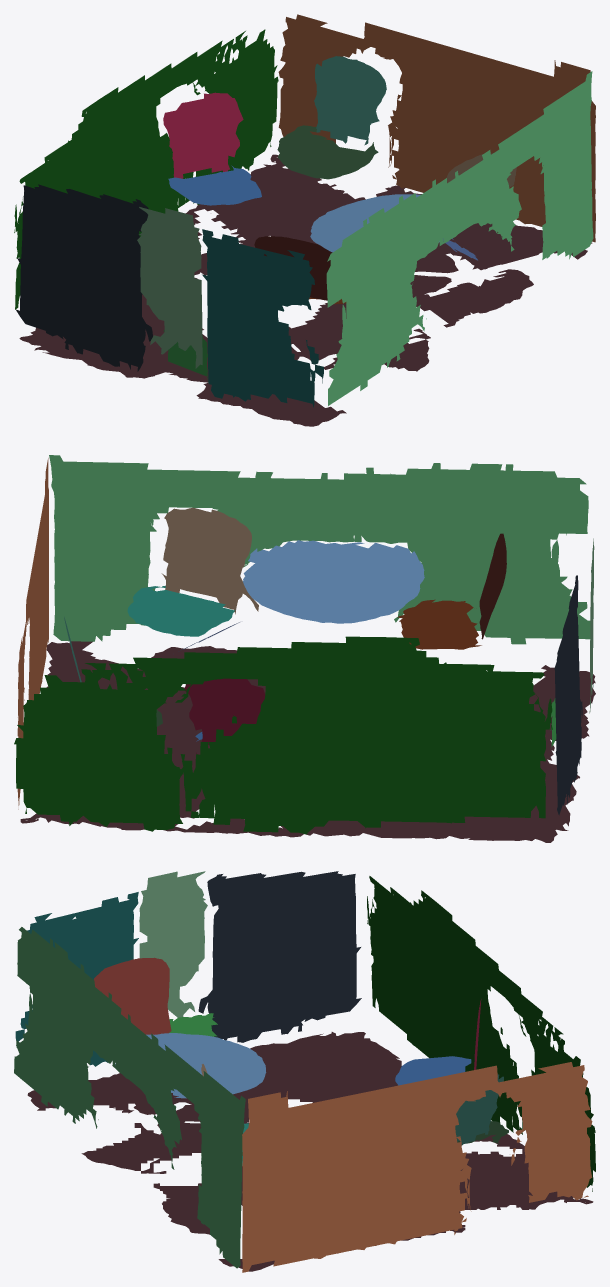
Rendered from AirPlanes-scene0427_00.glb.
3 renders of one model, top to bottom at view 1: azimuth 30°, elevation 25°; view 2: azimuth 150°, elevation 25°; view 3: azimuth 270°, elevation 25°, orthographic. The views are drawn at different scales.
Visible parts, largest first — view 1: lean; view 2: lean; view 3: lean.
Boxes of the visible parts, x1,y1,x2,y2 form: lean: (14,14,595,426); lean: (14,455,595,842); lean: (14,871,595,1272).
Size of the model in its own units: 3.83 by 1.3 by 3.66.
